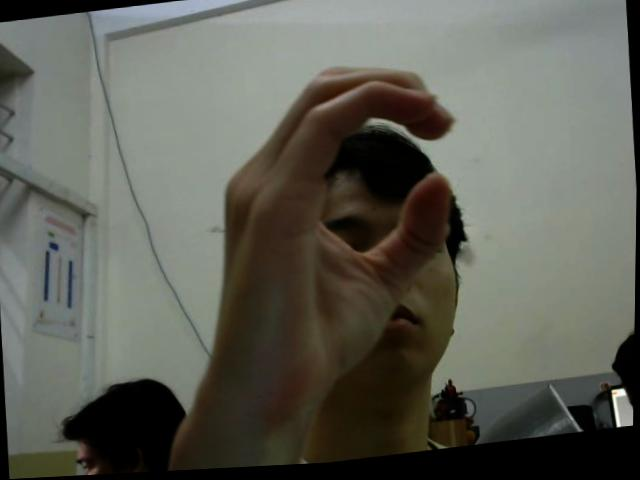C: (203, 52, 475, 406)
